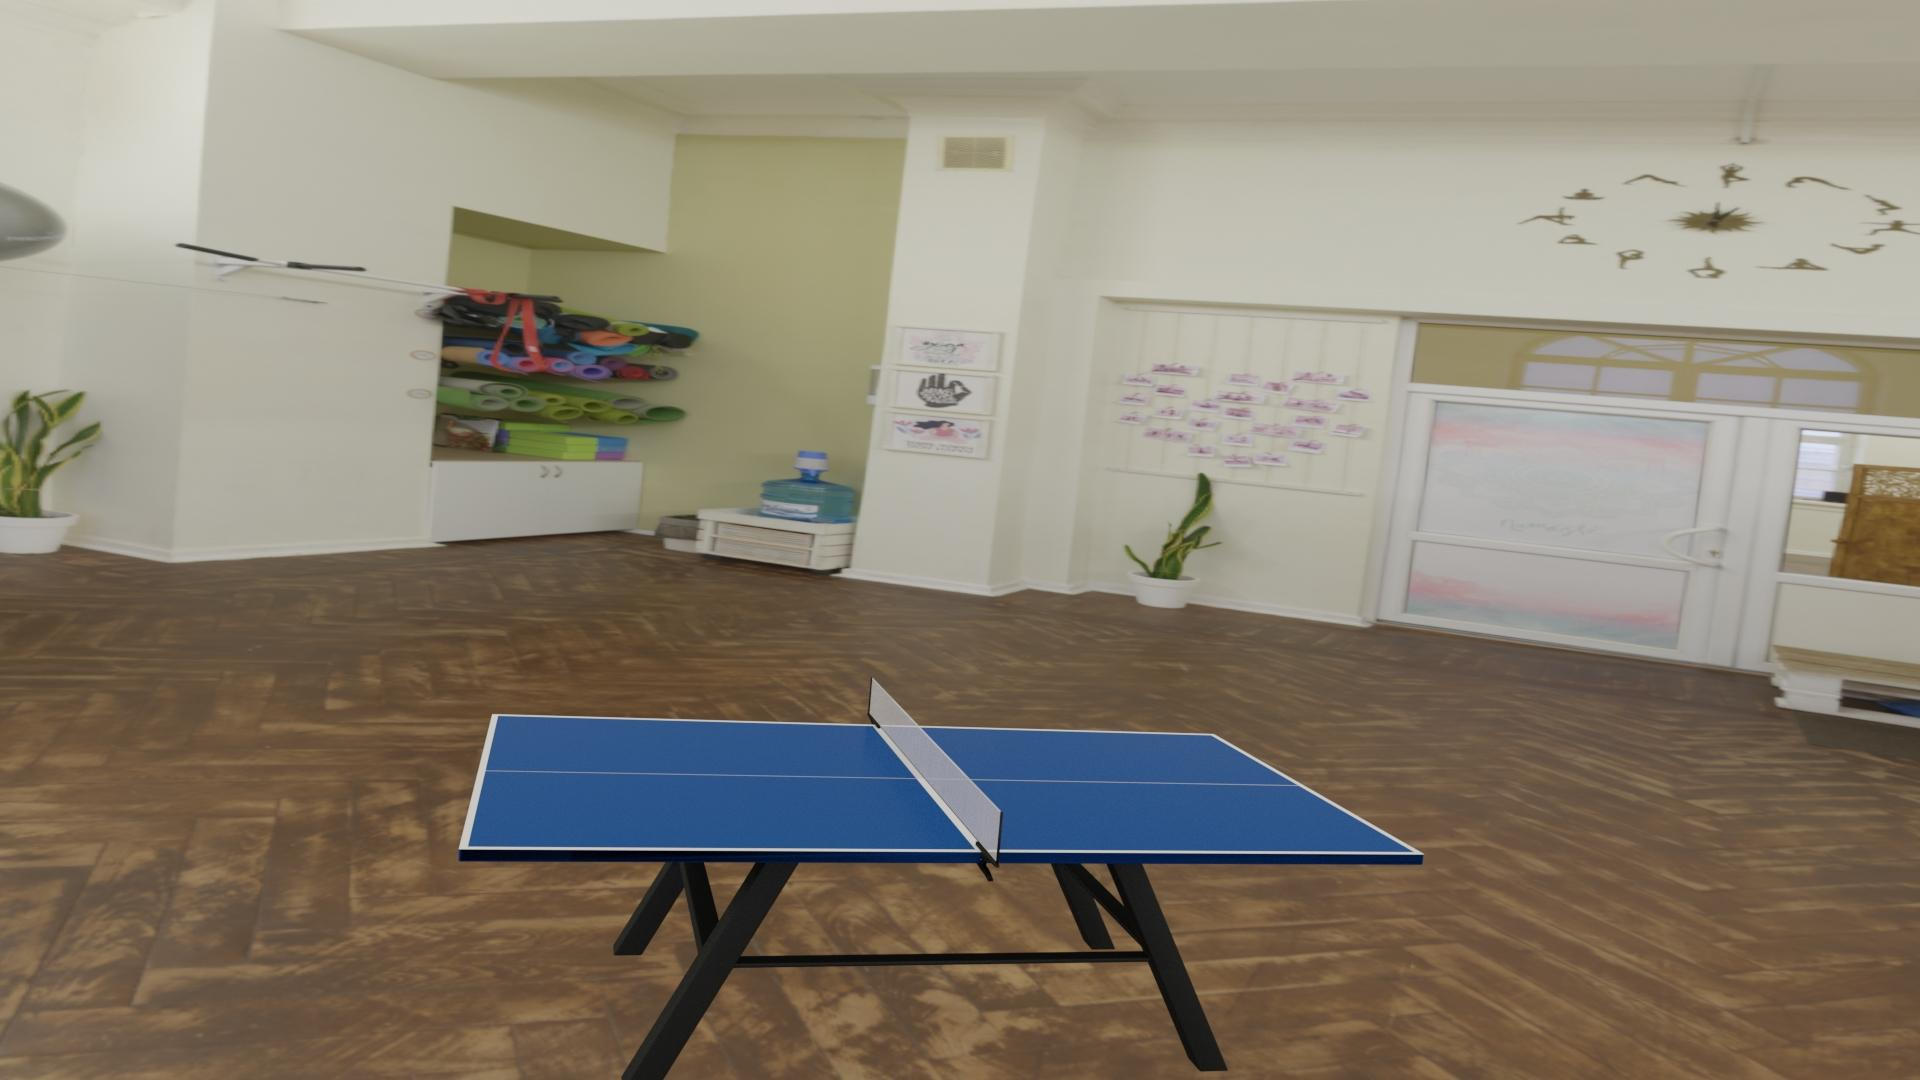table: (468, 716, 1415, 852)
